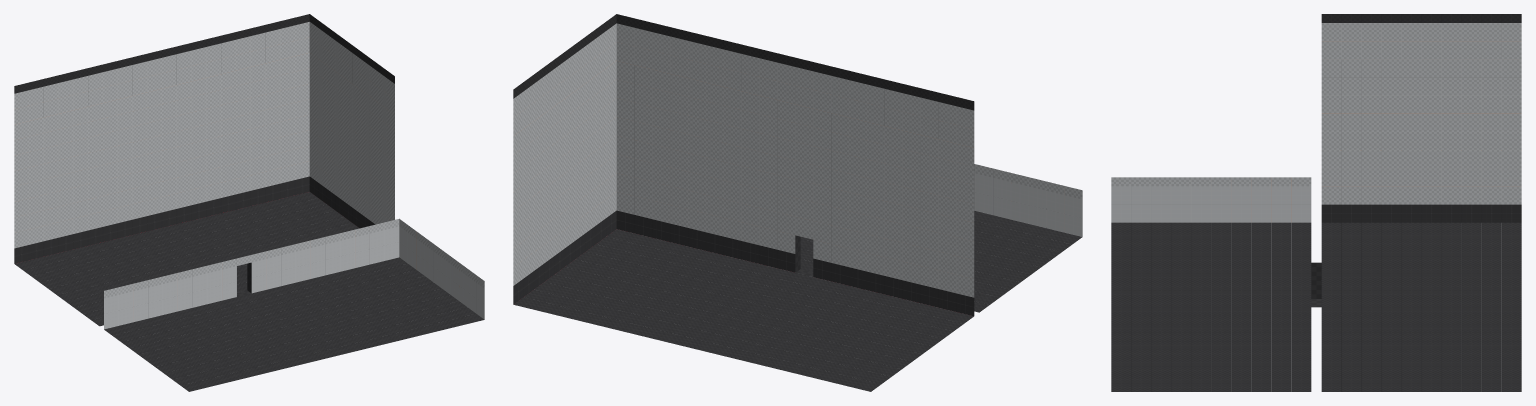
File: lobby_room.glb
3 renders of one model, left to right at view 1: azimuth 30°, elevation 25°; view 2: azimuth 150°, elevation 25°; view 3: azimuth 270°, elevation 25°, orthographic. The views are drawn at different scales.
Parts seen in each view (by area): view 1: Room2-col, Room1-col; view 2: Room2-col, Room1-col; view 3: Room2-col, Room1-col, Frame1-col.
Part boxes in pixels (x1=…): Room2-col: x1=14, y1=14, x2=394, y2=326; Room1-col: x1=104, y1=218, x2=484, y2=391; Room2-col: x1=513, y1=14, x2=974, y2=391; Room1-col: x1=800, y1=164, x2=1082, y2=312; Room2-col: x1=1321, y1=14, x2=1521, y2=391; Room1-col: x1=1111, y1=177, x2=1311, y2=391; Frame1-col: x1=1311, y1=262, x2=1321, y2=307.
Bounding box in the file's own units: 32 × 18.4 × 32.8.
1 material, 1 textured.
